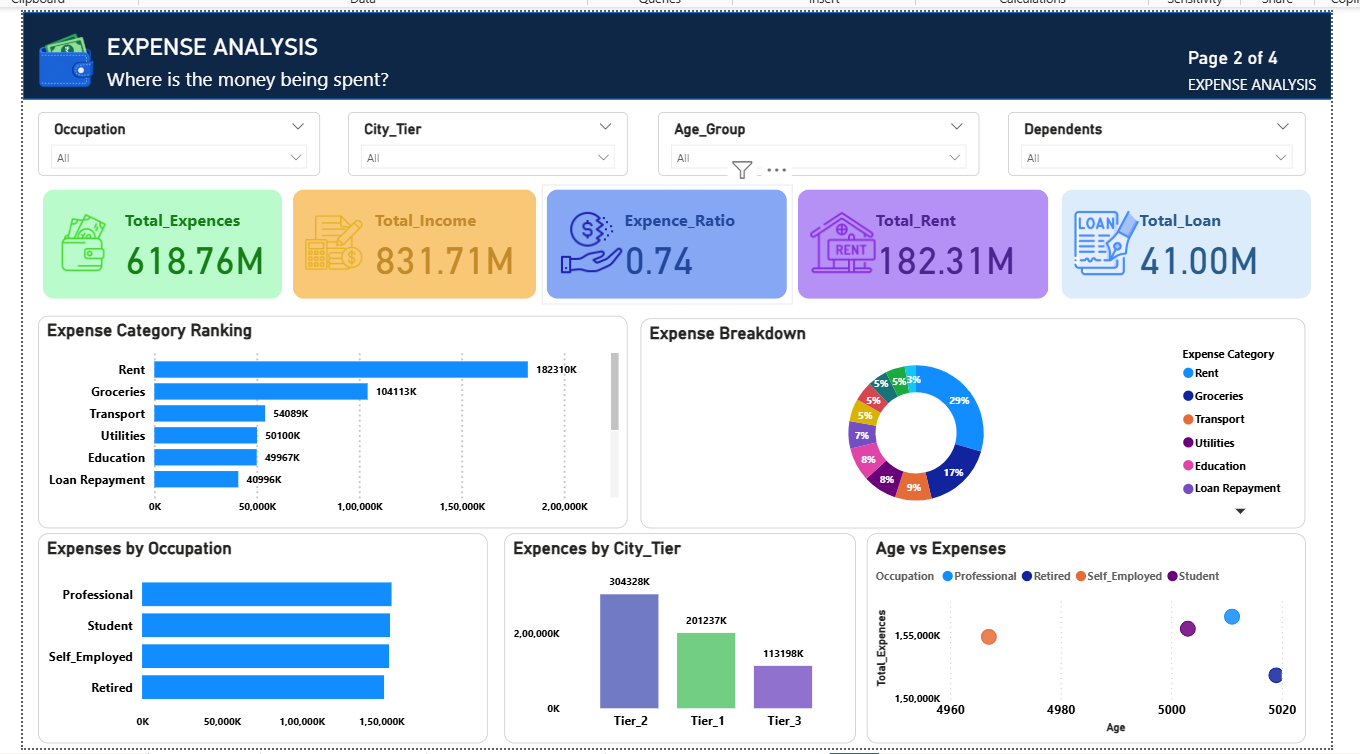

This screenshot's page, from the dashboard's own definition file:
{"tool":"powerbi","page":{"name":"Expense Analysis","canvas":[1280,720],"ordinal":1},"visuals":[{"type":"shape","box":[0,0,1280.3,85.6],"z":0},{"type":"image","box":[0,9.8,80.7,75.8],"z":1000},{"type":"textbox","title":"EXPENSE ANALYSIS","box":[77,20.8,480.6,62.4],"z":2000},{"type":"slicer","fields":{"Values":["Personal_Finance.Occupation"]},"box":[14.7,97.8,276.4,62.4],"z":3000},{"type":"slicer","fields":{"Values":["Personal_Finance.City_Tier"]},"box":[317.9,97.8,273.9,62.4],"z":4000},{"type":"slicer","fields":{"Values":["Personal_Finance.Age"]},"box":[621.2,97.8,314.3,62.4],"z":5000},{"type":"slicer","fields":{"Values":["Personal_Finance.Dependents"]},"box":[963.6,97.8,291,62.4],"z":6000},{"type":"cardVisual","title":"vc","fields":{"Data":["Personal_Finance.Total_Income"]},"box":[259.2,168.8,248.2,117.4],"z":7000},{"type":"cardVisual","title":"vc","fields":{"Data":["Personal_Finance.Expence_Ratio"]},"box":[507.5,168.8,245.8,117.4],"z":8000},{"type":"cardVisual","title":"vc","fields":{"Data":["Personal_Finance.Total_Rent"]},"box":[753.3,168.8,255.6,117.4],"z":9000},{"type":"cardVisual","fields":{"Data":["Personal_Finance.Total_Expences"]},"box":[14.7,168.8,244.6,117.4],"z":10000},{"type":"cardVisual","title":"vc","fields":{"Data":["Personal_Finance.Total_Loan"]},"box":[1011.3,168.8,254.3,117.4],"z":11000},{"type":"clusteredBarChart","title":"Expense Category Ranking","fields":{"Category":["Expense Category.Expense Category"],"Y":["Expense Category.Expense Amount"]},"box":[14.7,297.1,577.2,207.9],"z":12000},{"type":"donutChart","title":"Expense Breakdown","fields":{"Category":["Expense Category.Expense Category"],"Y":["Expense Category.Expense Amount"]},"box":[604.1,299.6,650.5,205.4],"z":13000},{"type":"barChart","title":"Expenses by Occupation","fields":{"Category":["Personal_Finance.Occupation"],"Y":["Personal_Finance.Total_Expences"]},"box":[14.7,509.9,440.2,205.4],"z":14000},{"type":"columnChart","title":"Expences by City_Tier","fields":{"Category":["Personal_Finance.City_Tier"],"Y":["Personal_Finance.Total_Expences"]},"box":[470.8,509.9,343.6,205.4],"z":15000},{"type":"scatterChart","title":"Age vs Expenses","fields":{"X":["CountNonNull(Personal_Finance.Age)"],"Y":["Personal_Finance.Total_Expences"],"Series":["Personal_Finance.Occupation"],"Size":["Personal_Finance.Total_Income"]},"box":[825.4,509.9,429.2,205.4],"z":16000},{"type":"textbox","title":"Page 2 of 4","box":[1134.8,34.2,144.3,50.1],"z":16001},{"type":"actionButton","box":[1134.8,34.2,144.3,48.9],"z":16002}]}

Visuals, with their boxes on the page's 1280x720 design canvas (x1, y1, x2, y2). These are canvas units, not pixel positions in the 1360x754 screenshot, which may show the page scaled, cropped or inside an application window:
shape: 0,0,1280,86
image: 0,10,81,86
"EXPENSE ANALYSIS" textbox: 77,21,558,83
slicer - Personal_Finance.Occupation: 15,98,291,160
slicer - Personal_Finance.City_Tier: 318,98,592,160
slicer - Personal_Finance.Age: 621,98,936,160
slicer - Personal_Finance.Dependents: 964,98,1255,160
"vc" cardVisual: 259,169,507,286
"vc" cardVisual: 508,169,753,286
"vc" cardVisual: 753,169,1009,286
cardVisual - Personal_Finance.Total_Expences: 15,169,259,286
"vc" cardVisual: 1011,169,1266,286
"Expense Category Ranking" clusteredBarChart: 15,297,592,505
"Expense Breakdown" donutChart: 604,300,1255,505
"Expenses by Occupation" barChart: 15,510,455,715
"Expences by City_Tier" columnChart: 471,510,814,715
"Age vs Expenses" scatterChart: 825,510,1255,715
"Page 2 of 4" textbox: 1135,34,1279,84
actionButton: 1135,34,1279,83
